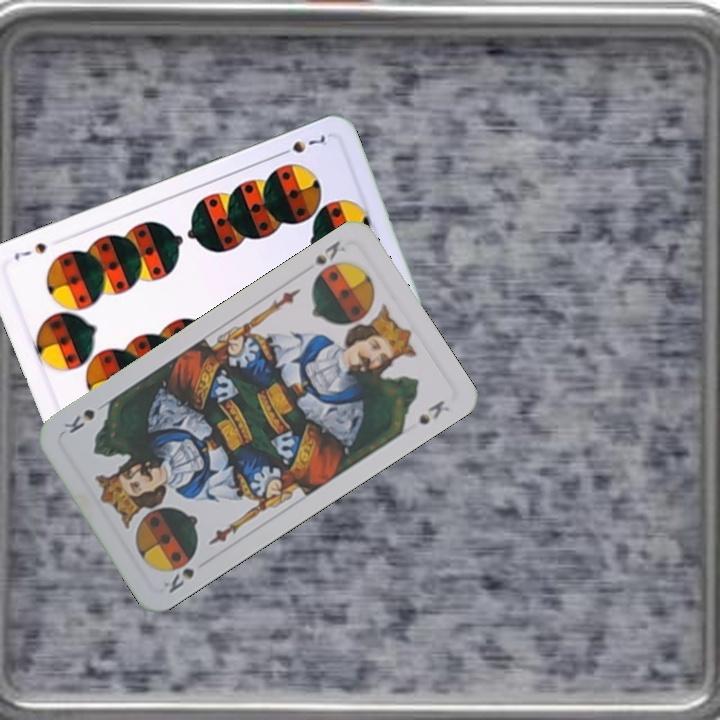S7: (274, 131, 329, 159)
SK: (308, 236, 348, 283), (159, 563, 197, 596)
